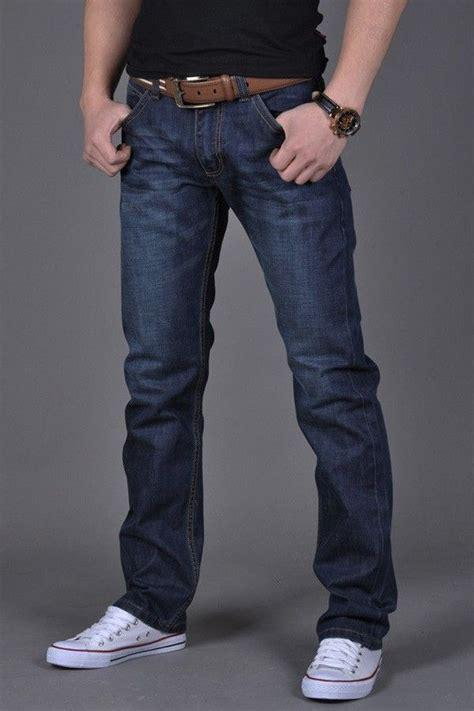pants: (118, 72, 400, 652)
